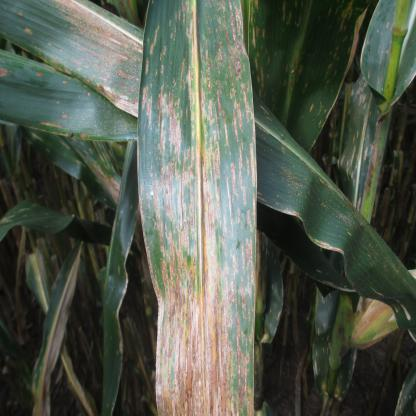corn gray leaf spot: (135, 1, 267, 416)
